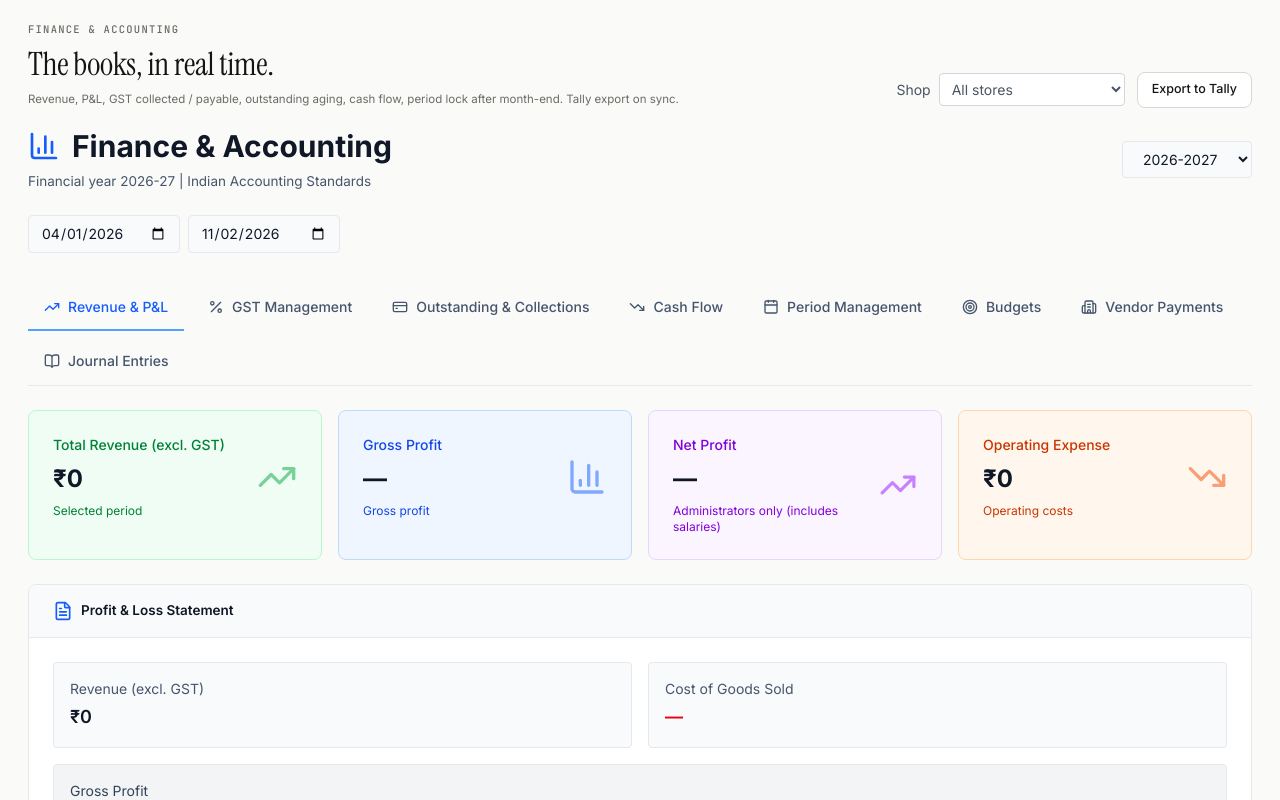
Scenario: Finance dashboard - supplier figures follow the dashboard shop › an admin narrows every panel to one shop with the Shop picker
The image size is (1280, 800).
Click the button "Vendor Payments": click(1152, 308) [1065,285,1239,331]
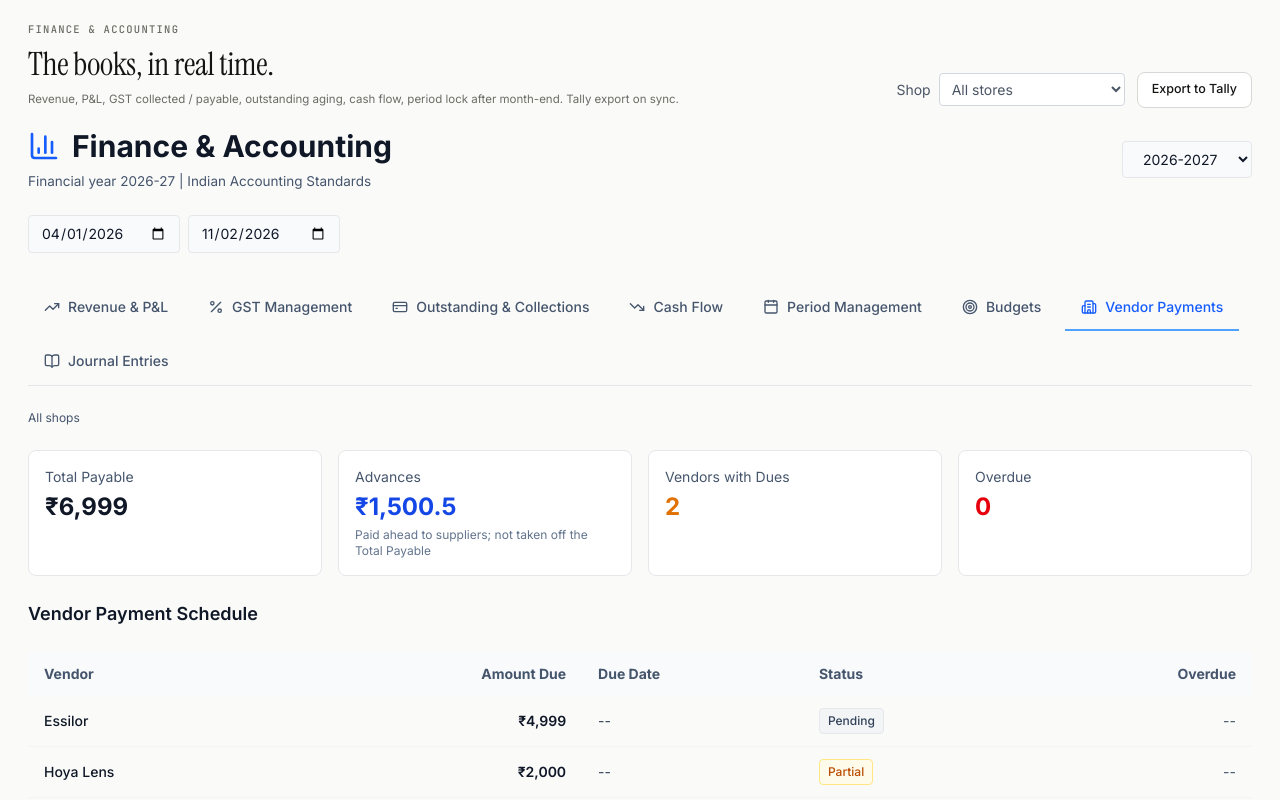
Select "WizOpt Pune" in the dropdown named "Purchase shop": (1032, 90) [939,73,1125,106]
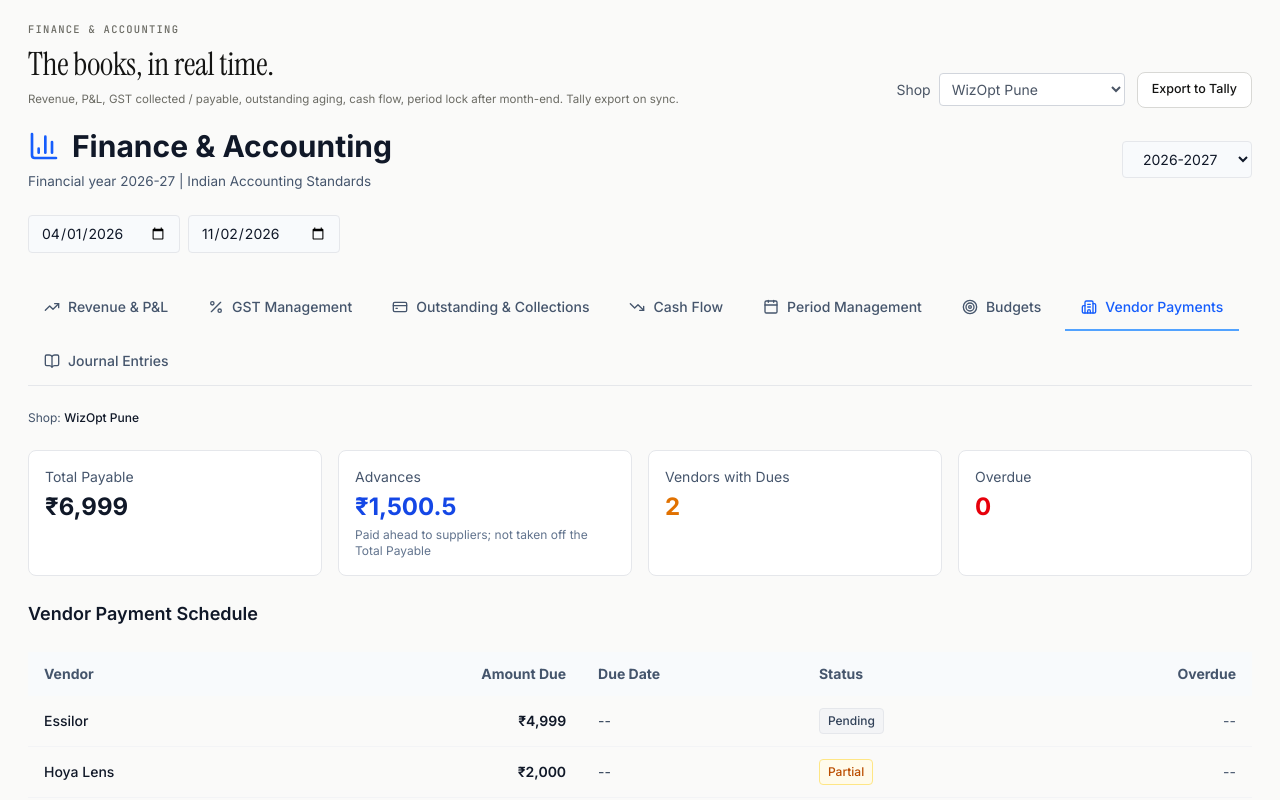
Expected: the text "WizOpt Pune" is shown, [64,410,139,425]
